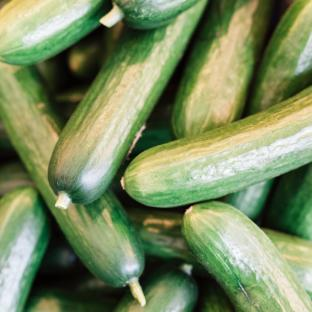Cucumber: (0, 64, 144, 304), (121, 88, 312, 208), (182, 202, 311, 311), (248, 0, 311, 114), (0, 0, 110, 64), (0, 187, 49, 311), (127, 209, 206, 276), (114, 267, 197, 311), (264, 164, 311, 240), (263, 229, 311, 297), (222, 179, 274, 220), (39, 233, 84, 278), (25, 289, 116, 311), (68, 30, 106, 81), (65, 273, 126, 297), (36, 54, 73, 93), (55, 84, 89, 120), (0, 161, 34, 196), (198, 281, 234, 311), (0, 120, 14, 159)
